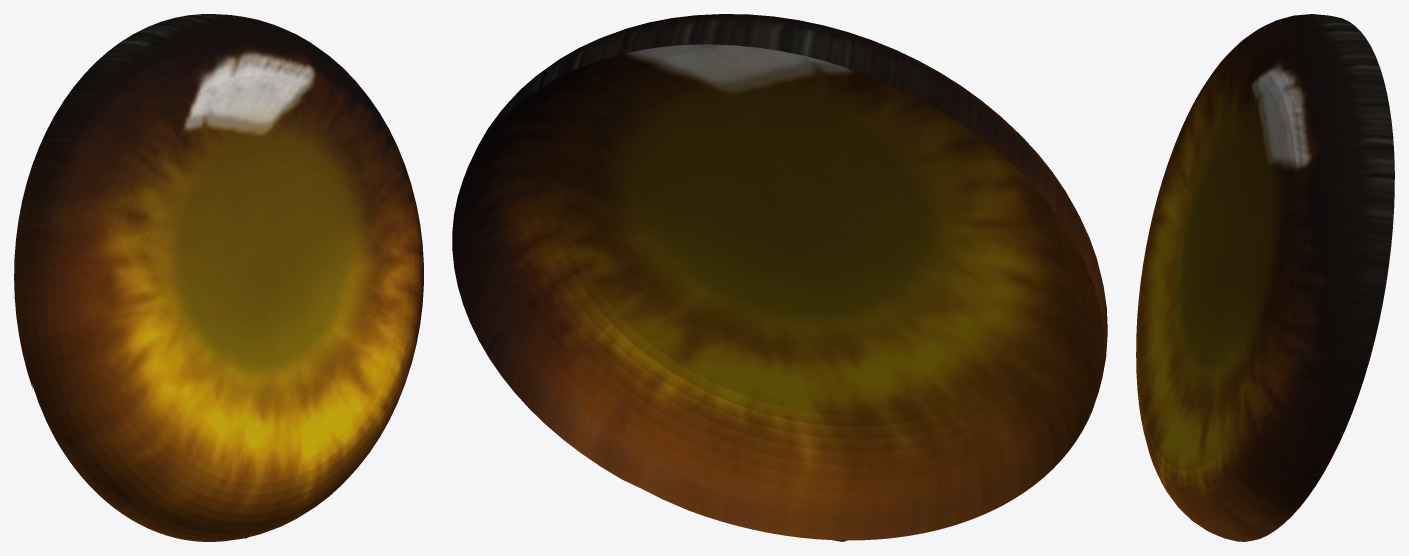
Rendered from ojoderbotamon.obj.
3 views of the same model, side by side, from view 1: azimuth 30°, elevation 25°; view 2: azimuth 150°, elevation 25°; view 3: azimuth 270°, elevation 25° (orthographic). The views are drawn at different scales.
Visible parts, largest first — view 1: ojoderbotamon1:obj_20102616; view 2: ojoderbotamon1:obj_20102616; view 3: ojoderbotamon1:obj_20102616.
Boxes of the visible parts, box(x1,y1,x2,y2) form: ojoderbotamon1:obj_20102616: box(14, 14, 423, 541); ojoderbotamon1:obj_20102616: box(452, 14, 1107, 541); ojoderbotamon1:obj_20102616: box(1136, 14, 1394, 541).
Size of the model in its own units: 2.41 by 2.38 by 1.2.
Materials: 1 (1 with a texture image).
